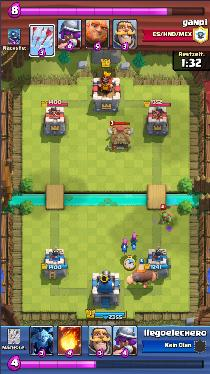ally_archer: (130, 232, 139, 247), (120, 237, 128, 251)
ally_giant: (126, 264, 156, 289)
enemy_goblin_hut: (106, 127, 133, 150)
enemy_spear_goblin: (158, 211, 172, 224)
